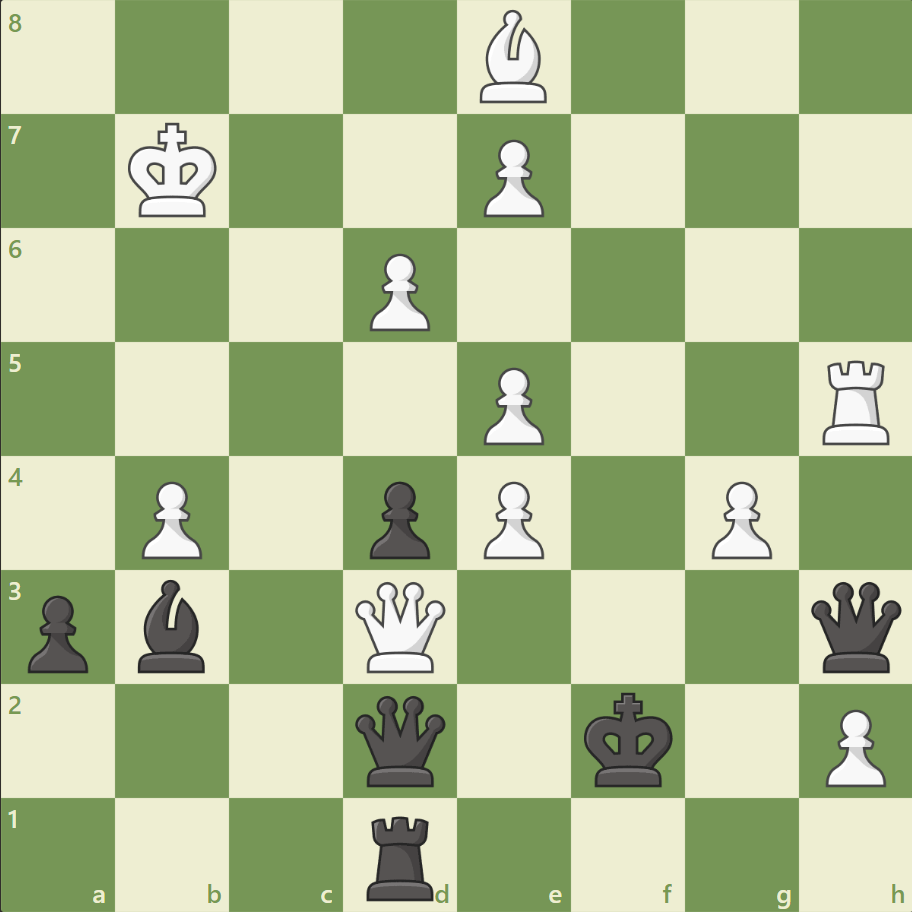B: (471, 6, 555, 109)
K: (124, 117, 224, 225)
P: (474, 132, 549, 223), (474, 359, 549, 450), (133, 473, 208, 564), (474, 473, 549, 564), (701, 473, 776, 564), (361, 246, 435, 337), (815, 700, 889, 791)
Q: (351, 576, 450, 676)
R: (814, 352, 897, 449)
b: (131, 574, 215, 676)
k: (579, 685, 679, 793)
p: (20, 586, 95, 677), (361, 473, 435, 564)
q: (805, 576, 904, 676), (351, 690, 450, 789)
r: (360, 806, 442, 904)
